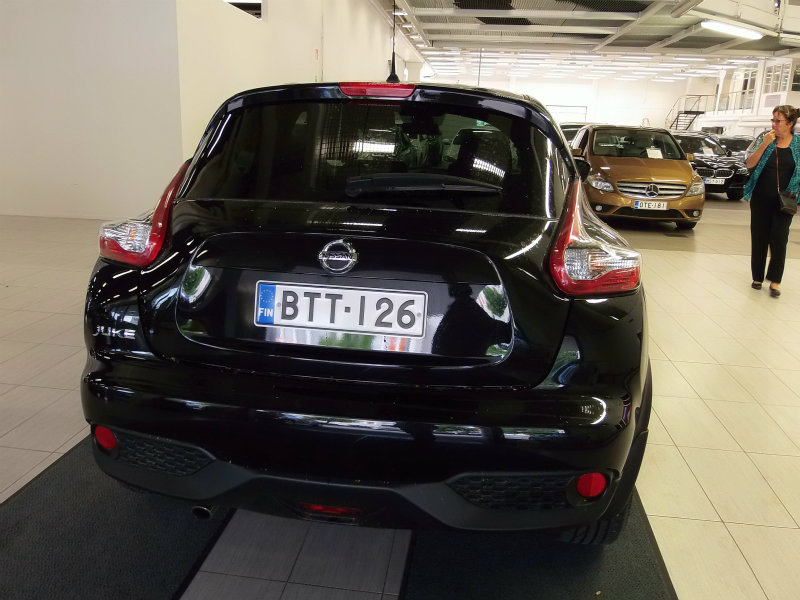license: (253, 277, 425, 337)
